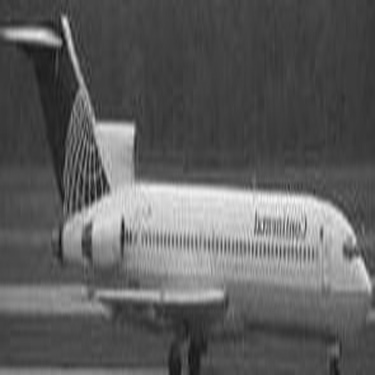airplane: (39, 15, 371, 372)
